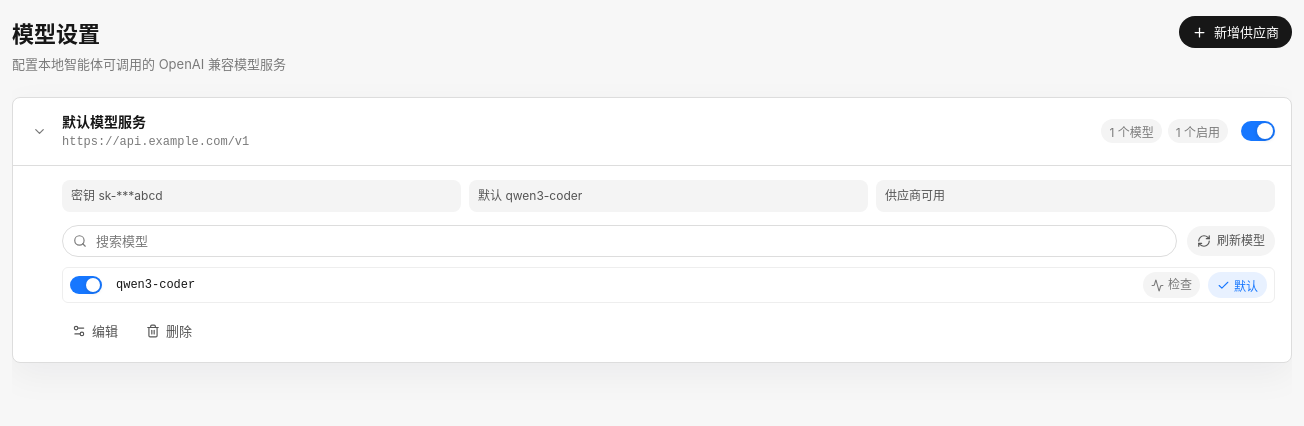
Scenario: ModelSettingsPage › keeps saved key and local models visible when refresh fails
Expected: the text "密钥 sk-***abcd" is shown, [62,180,461,212]
Click the button "刷新模型" at [1231, 241], box [1187,226,1275,256]
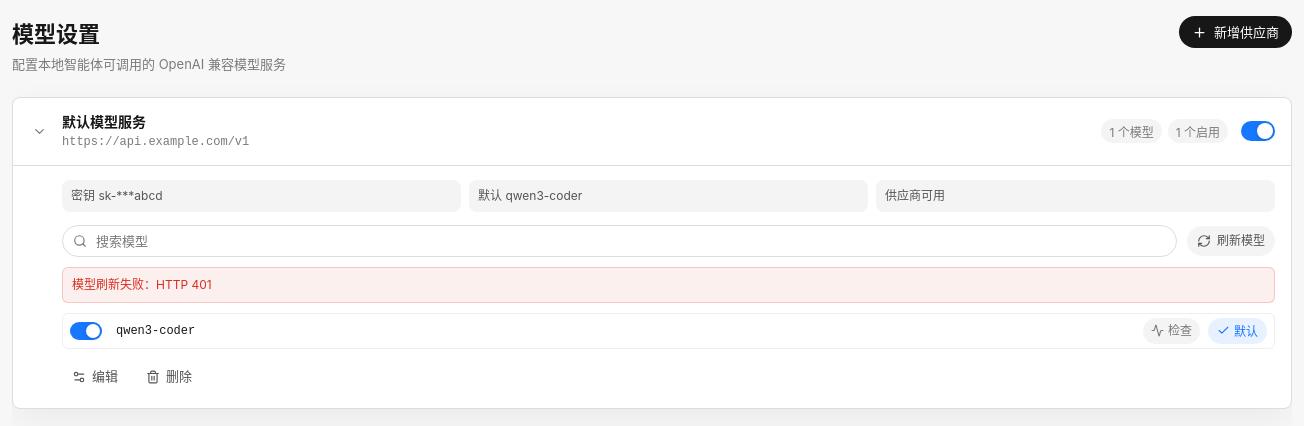
Expected: the text "密钥 sk-***abcd" is shown, [62,180,461,212]
Now the message reads "模型刷新失败：HTTP 401", box [72,277,212,292]
